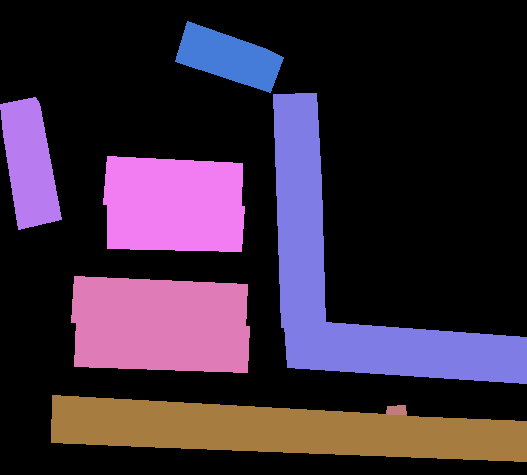parkingspot: (51, 395, 526, 461), (284, 322, 527, 383), (273, 93, 325, 327), (71, 276, 247, 330), (74, 319, 249, 372), (0, 97, 61, 229), (175, 21, 283, 92), (103, 156, 242, 209), (107, 201, 244, 251)
